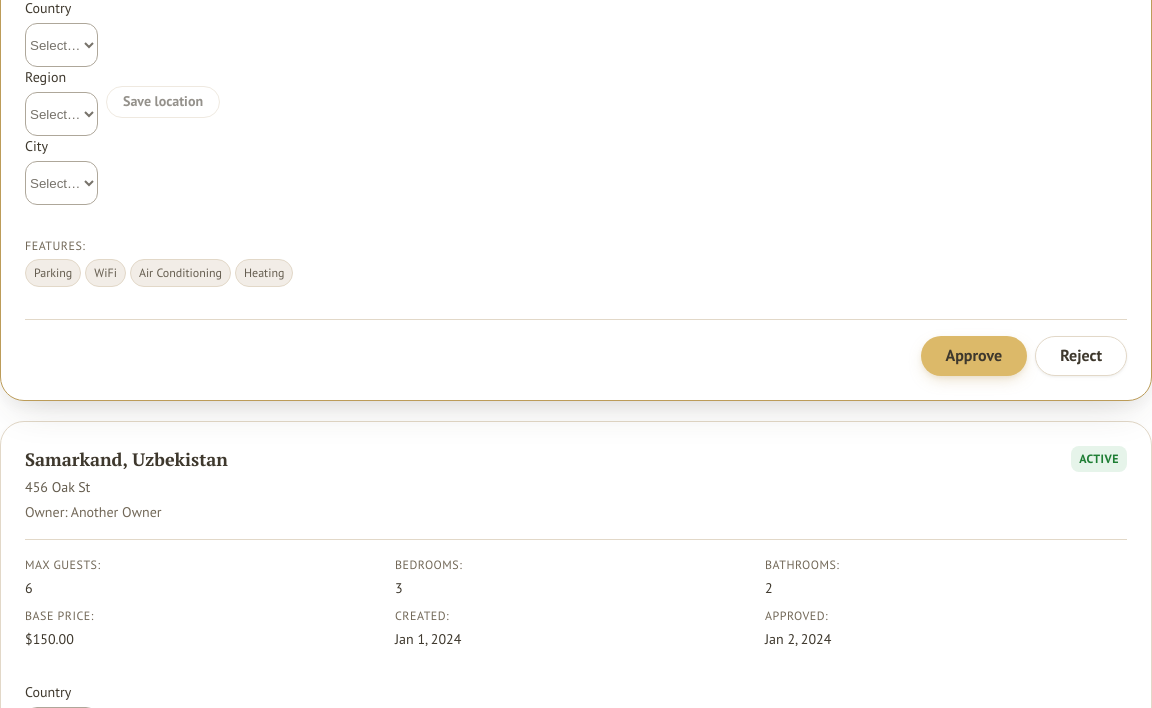
Test: AdminPropertyModeration › should close reject modal when cancel is clicked
The image size is (1152, 708).
(page scrolled)
Click the button "Reject" at {"x": 1081, "y": 356}, box [1035, 336, 1127, 376]
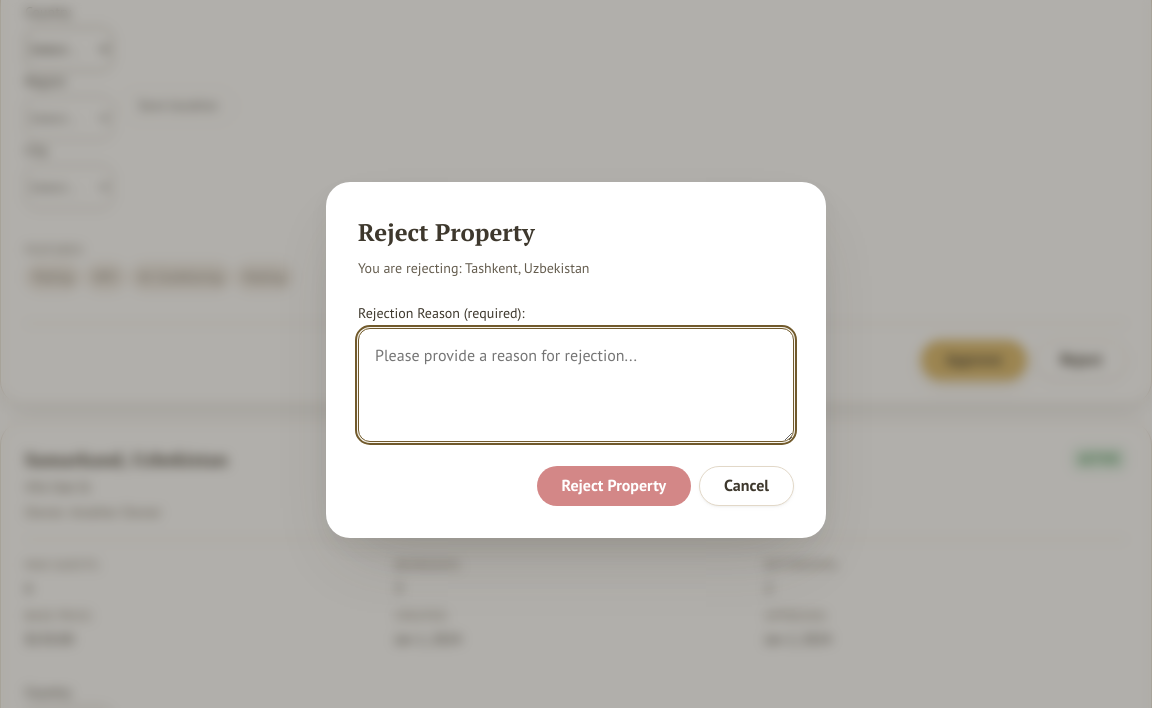
Click the button "Cancel" at {"x": 747, "y": 486}, box [699, 466, 794, 506]
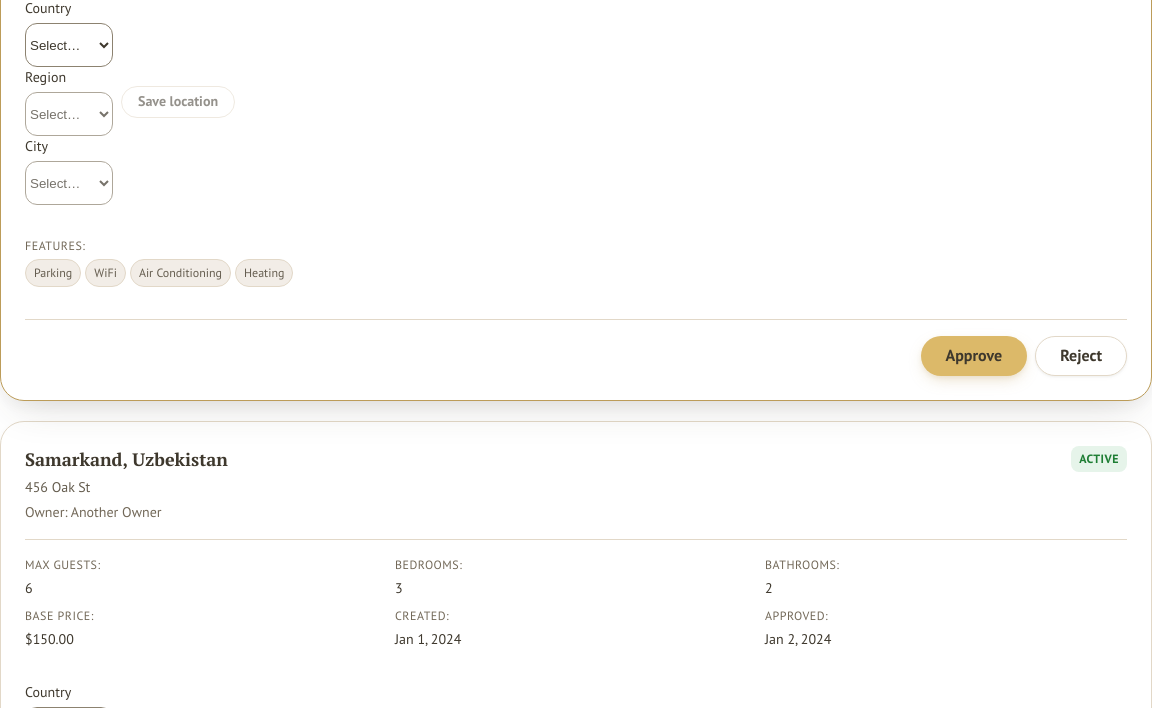
Expected: the heading "Reject Property" is gone
